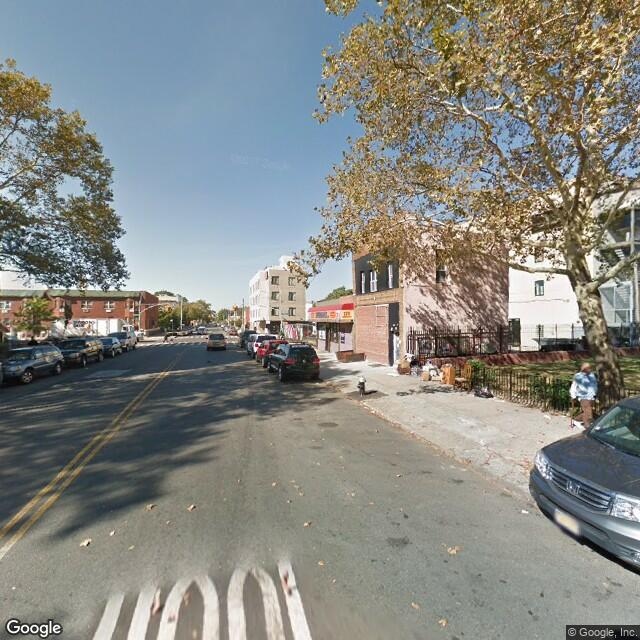litter: (436, 360, 491, 397), (395, 353, 424, 378)
